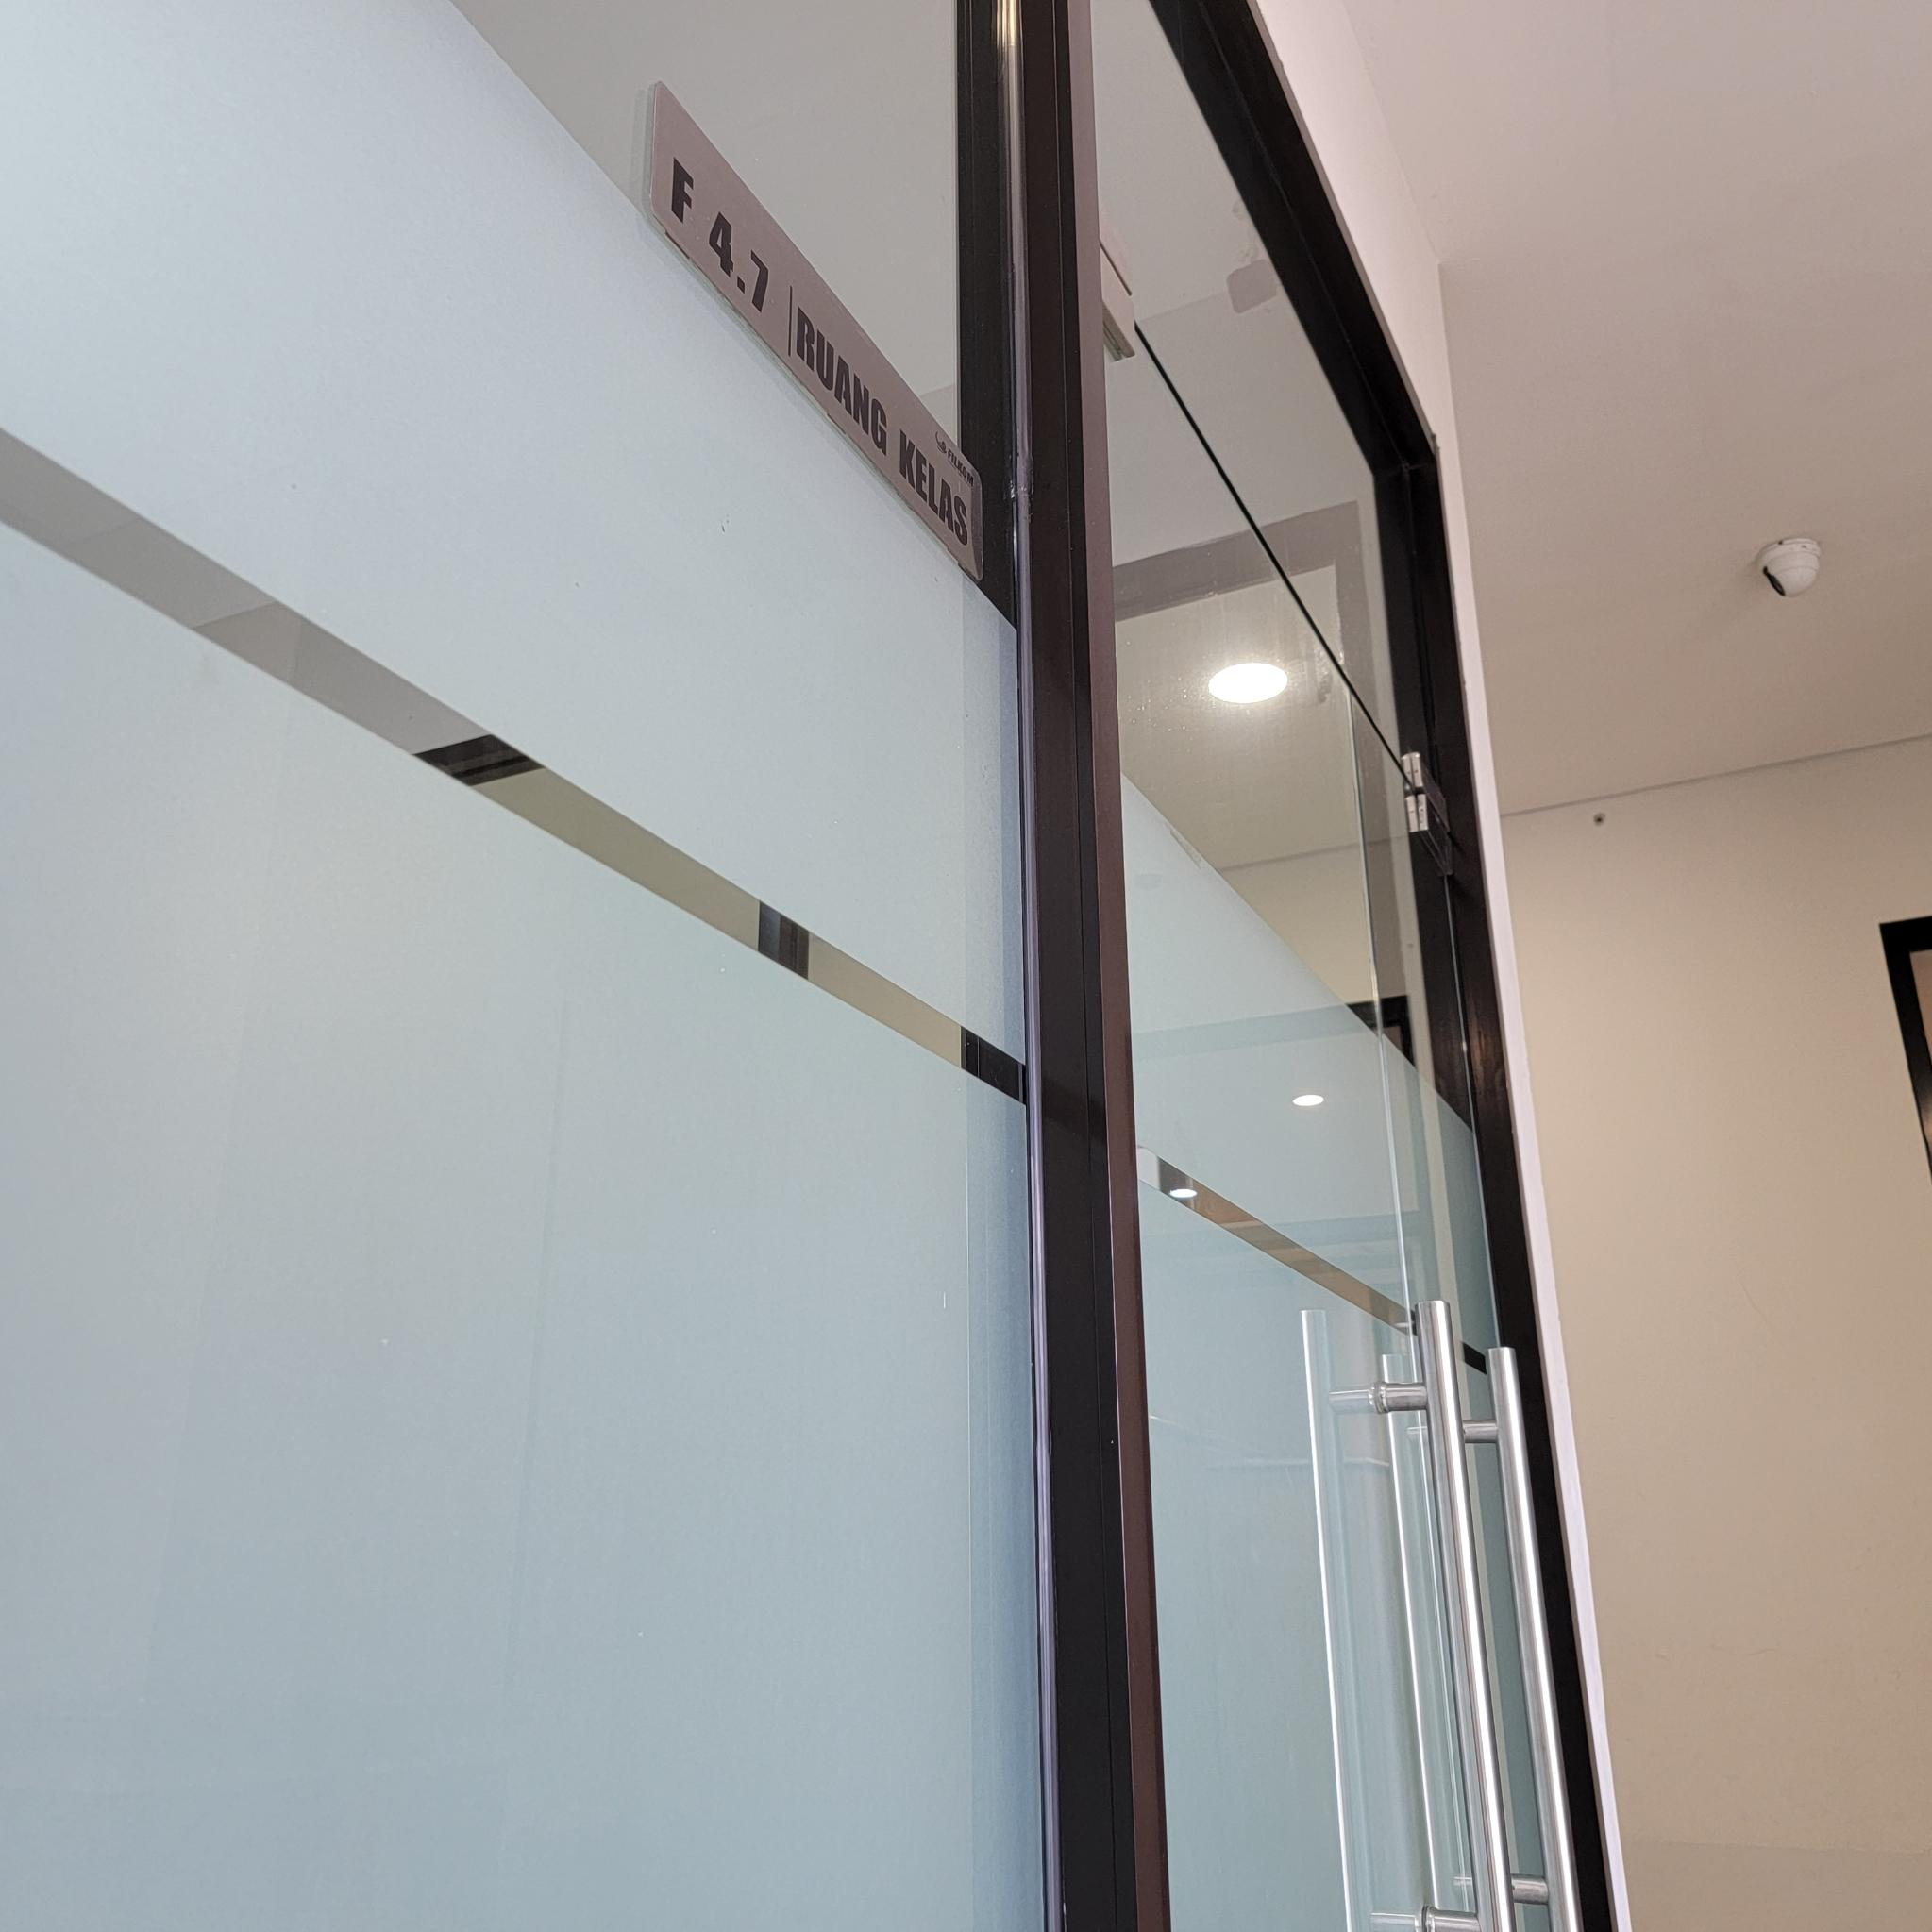plate: (651, 76, 985, 584)
